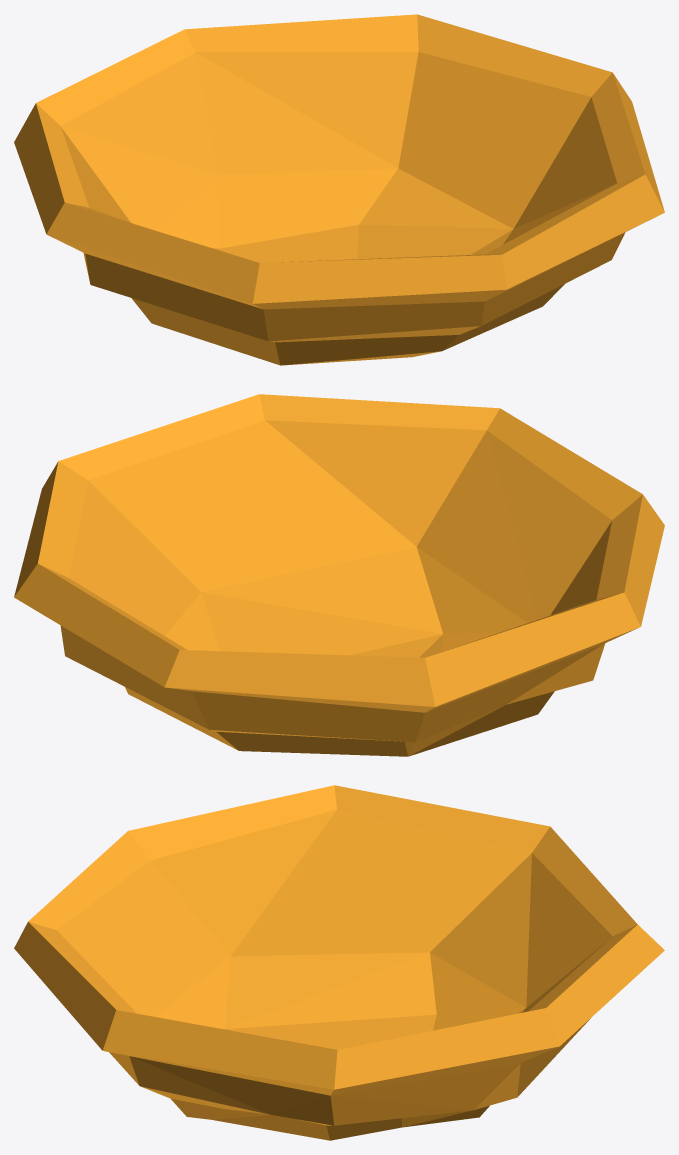
Rendered from SM_Basket_I_Farm.fbx.
3 renders of one model, top to bottom at view 1: azimuth 30°, elevation 25°; view 2: azimuth 150°, elevation 25°; view 3: azimuth 270°, elevation 25°, orthographic. The views are drawn at different scales.
Parts seen in each view (by area): view 1: basket-i-farm; view 2: basket-i-farm; view 3: basket-i-farm.
Part boxes in pixels (bbox=[...]): basket-i-farm: bbox=[14, 14, 664, 365]; basket-i-farm: bbox=[14, 394, 664, 756]; basket-i-farm: bbox=[14, 785, 664, 1140].
Bounding box in the file's own units: 0.3994 × 0.1118 × 0.3977.
